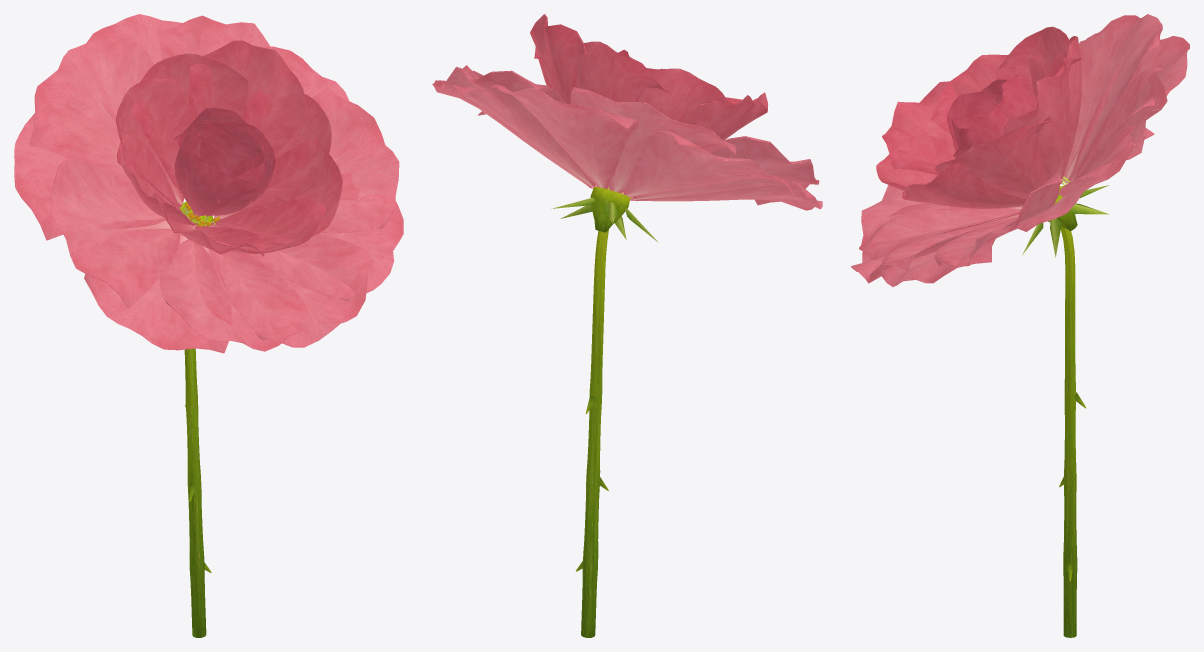
Rendered from color_0.glb.
The picture shows the model from 3 angles, left to right: view 1: azimuth 30°, elevation 25°; view 2: azimuth 150°, elevation 25°; view 3: azimuth 270°, elevation 25°; orthographic projection.
Visible parts, largest first — view 1: Petal_1_outer_03, Petal_3_outer_04, Petal_5_outer_04, Petal_6_outer_02, Petal_4_outer_01, Petal_8_outer_02, Petal_15_middle_03, Petal_7_outer_03, Petal_17_middle_01, Petal_16_middle_04, Stem_Skinned, Petal_14_middle_04 (+13 smaller); view 2: Petal_0_outer_01, Stem_Skinned, Petal_2_outer_01, Petal_10_outer_02, Petal_1_outer_03, Petal_16_middle_04, Petal_3_outer_04, Petal_17_middle_01, Petal_15_middle_03, Petal_4_outer_01, Hypanthium_and_five_sepals, Petal_18_middle_02 (+2 smaller); view 3: Petal_1_outer_03, Stem_Skinned, Petal_14_middle_04, Petal_6_outer_02, Petal_10_outer_02, Petal_15_middle_03, Petal_11_middle_03, Petal_13_middle_02, Petal_7_outer_03, Petal_0_outer_01, Petal_8_outer_02, Petal_5_outer_04 (+10 smaller).
Part boxes in pixels (x1,y1,x2,y2): Petal_1_outer_03: [29, 37, 154, 186]; Petal_3_outer_04: [50, 159, 179, 308]; Petal_5_outer_04: [159, 239, 309, 351]; Petal_6_outer_02: [209, 234, 373, 347]; Petal_4_outer_01: [84, 228, 232, 353]; Petal_8_outer_02: [312, 90, 399, 233]; Petal_15_middle_03: [188, 40, 306, 155]; Petal_7_outer_03: [246, 172, 403, 301]; Petal_17_middle_01: [115, 78, 188, 206]; Petal_16_middle_04: [130, 53, 248, 191]; Stem_Skinned: [184, 212, 211, 637]; Petal_14_middle_04: [237, 89, 331, 211]; Petal_0_outer_01: [489, 84, 638, 188]; Stem_Skinned: [576, 229, 608, 637]; Petal_2_outer_01: [624, 130, 794, 197]; Petal_10_outer_02: [441, 66, 594, 186]; Petal_1_outer_03: [570, 87, 735, 193]; Petal_16_middle_04: [576, 41, 669, 102]; Petal_3_outer_04: [633, 136, 819, 200]; Petal_17_middle_01: [638, 67, 728, 124]; Petal_15_middle_03: [530, 14, 593, 104]; Petal_4_outer_01: [632, 182, 822, 210]; Hypanthium_and_five_sepals: [551, 187, 657, 241]; Petal_18_middle_02: [694, 95, 755, 138]; Petal_1_outer_03: [1063, 14, 1162, 182]; Stem_Skinned: [1059, 227, 1086, 637]; Petal_14_middle_04: [935, 116, 1051, 198]; Petal_6_outer_02: [851, 206, 1020, 283]; Petal_10_outer_02: [1059, 66, 1167, 196]; Petal_15_middle_03: [1000, 57, 1081, 184]; Petal_11_middle_03: [882, 80, 978, 174]; Petal_13_middle_02: [902, 163, 1026, 208]; Petal_7_outer_03: [881, 217, 1018, 286]; Petal_0_outer_01: [1070, 36, 1189, 181]; Petal_8_outer_02: [934, 170, 1062, 266]; Petal_5_outer_04: [859, 185, 1021, 260].
Bounding box in the file's own units: 0.1988 × 0.3289 × 0.1713.
7 materials, 7 textured.
